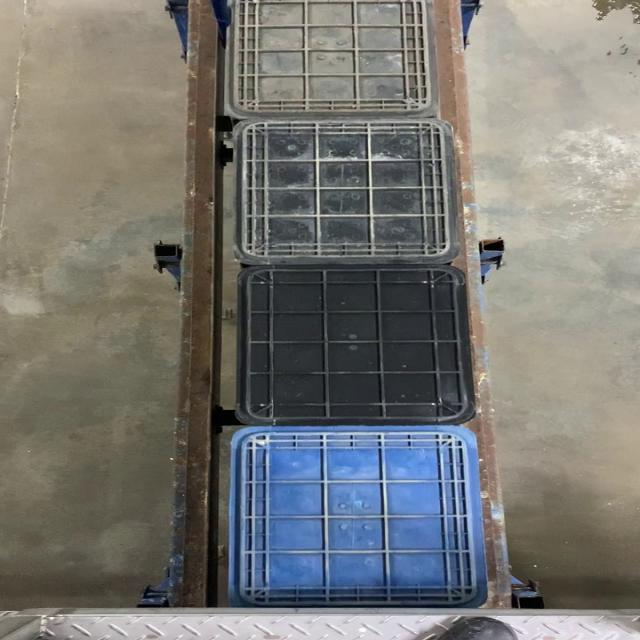Box: (229, 425, 487, 609), (236, 266, 474, 426), (234, 119, 460, 265)
